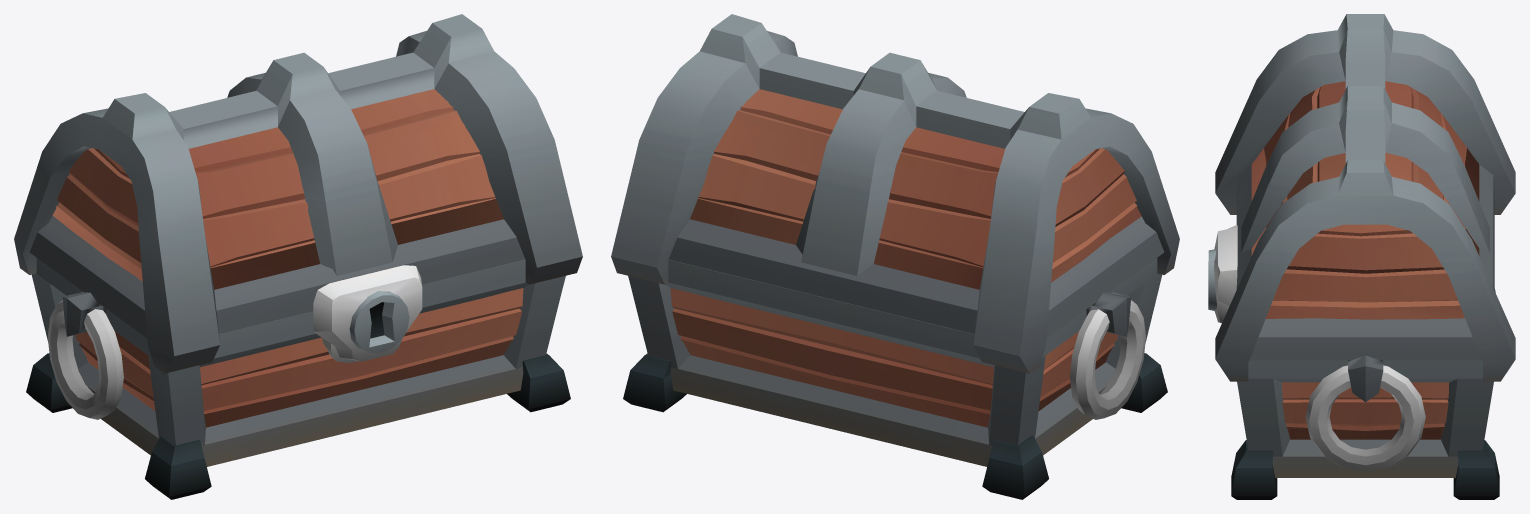
File: shifter-harbor-41.glb
3 views of the same model, side by side, from view 1: azimuth 30°, elevation 25°; view 2: azimuth 150°, elevation 25°; view 3: azimuth 270°, elevation 25° (orthographic). The views are drawn at different scales.
Parts seen in each view (by area): view 1: piece; view 2: piece; view 3: piece.
Boxes of the visible parts, x1,y1,x2,y2 form: piece: [14, 14, 582, 499]; piece: [611, 14, 1179, 499]; piece: [1208, 14, 1515, 499].
Size of the model in its own units: 2.93 by 2.05 by 1.8.
Materials: 1 (1 with a texture image).
